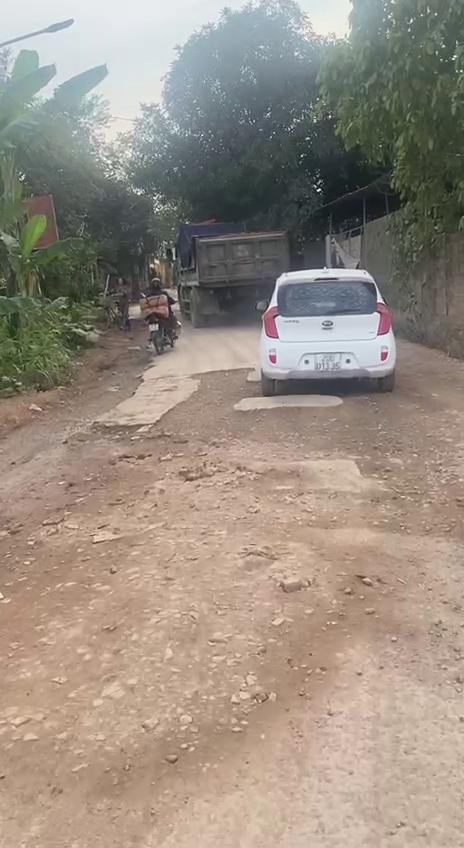pothole: (0, 421, 254, 559), (273, 388, 464, 546), (150, 368, 276, 467)
